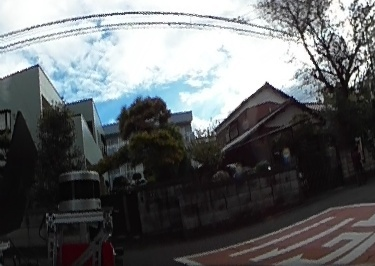person: (351, 144, 366, 186)
